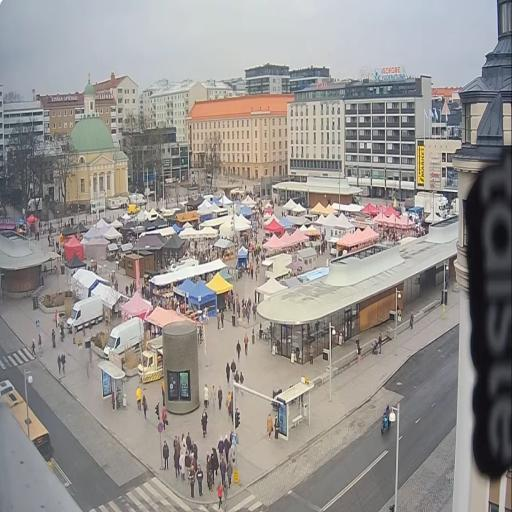Bus: (0, 381, 53, 468)
Delivery: (104, 317, 144, 359), (67, 296, 103, 332), (138, 336, 163, 383)
Two-wheeler: (381, 408, 389, 433)
